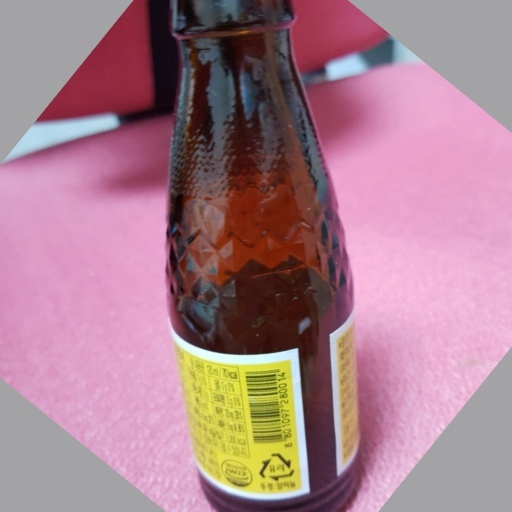Glass_3: (155, 1, 365, 512)
